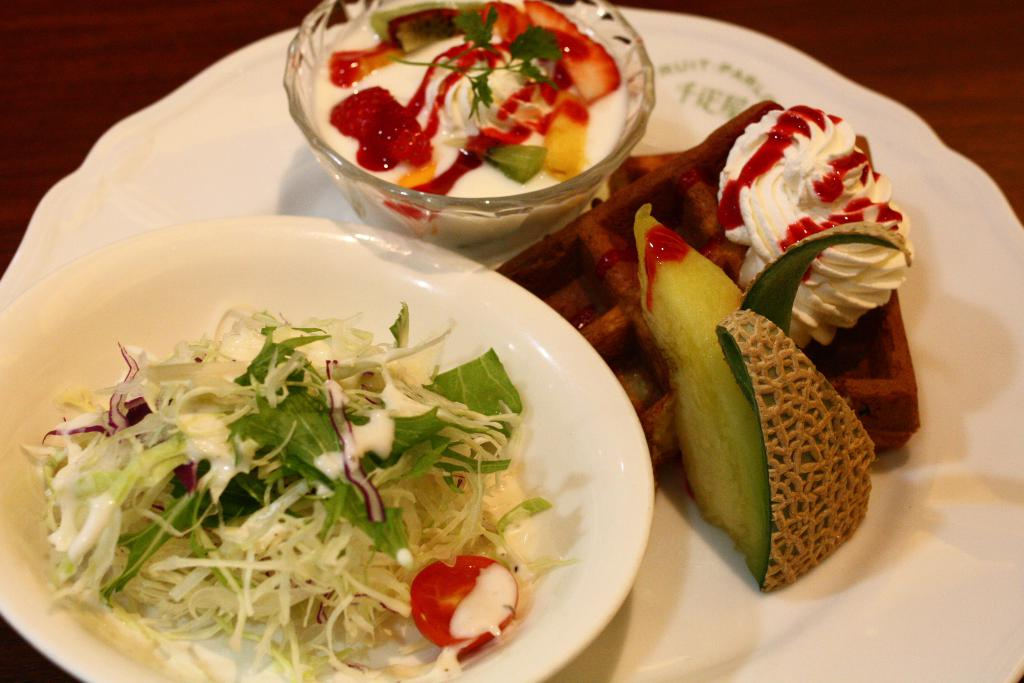salad: (17, 296, 574, 682)
